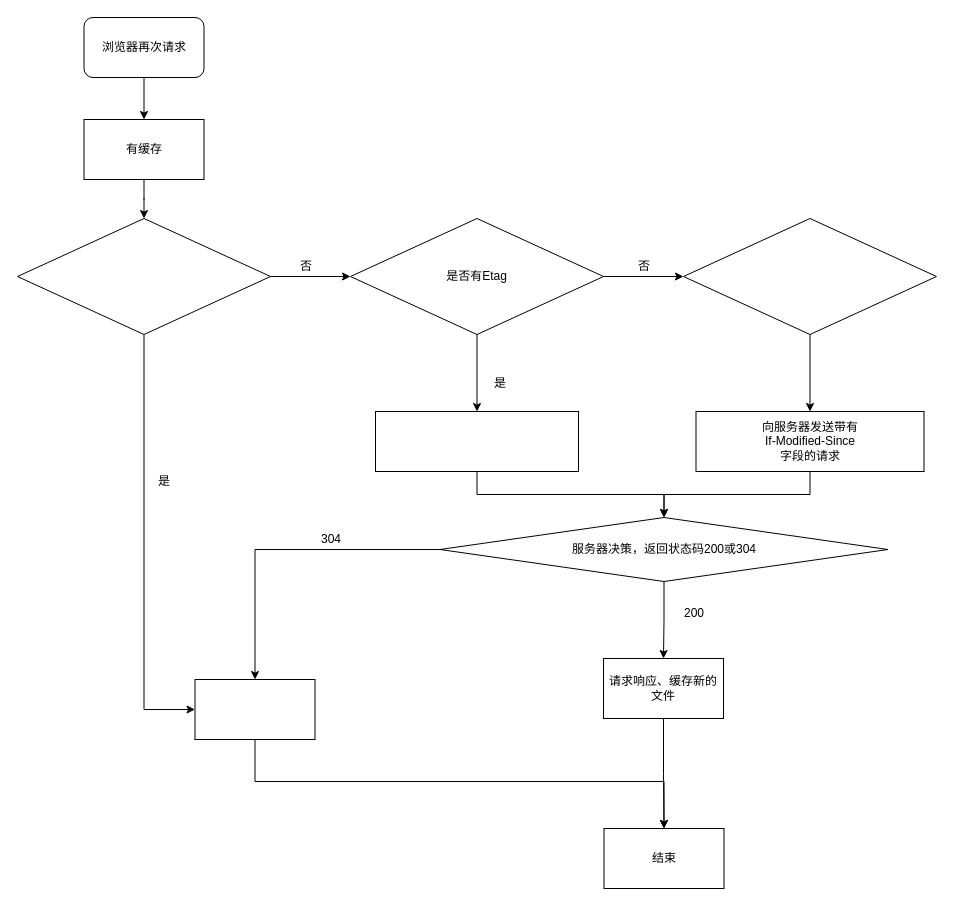
The diagram is 954 pixels wide and 906 high, and some of its shapes have lost their labels. The shapes that lost their labels are listed below. From the top down, each one's centre as x and y in pixels, then its label:
pixel 143 276: 检查Cache-Control（优先级更高） 或Expires，查看是否过期
pixel 809 276: 是否有Last-Modified
pixel 476 441: 向服务器发送带有 If-None-Match 字段的请求
pixel 254 709: 从缓存中读取
